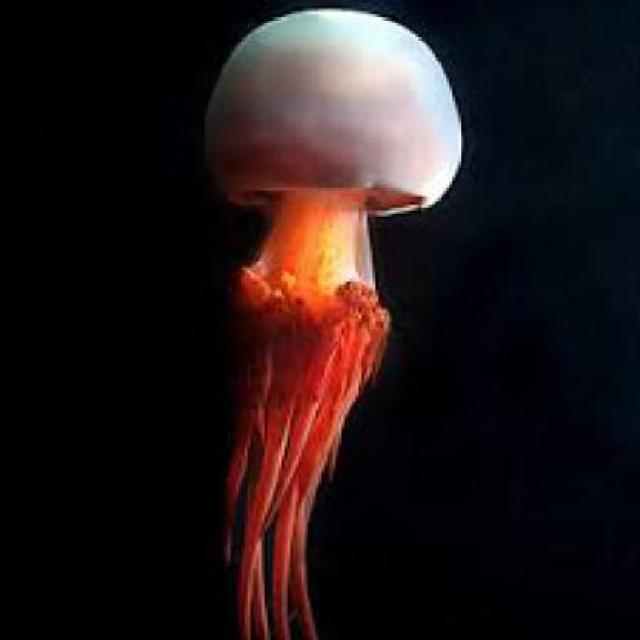Jellyfish: (196, 5, 464, 638)
